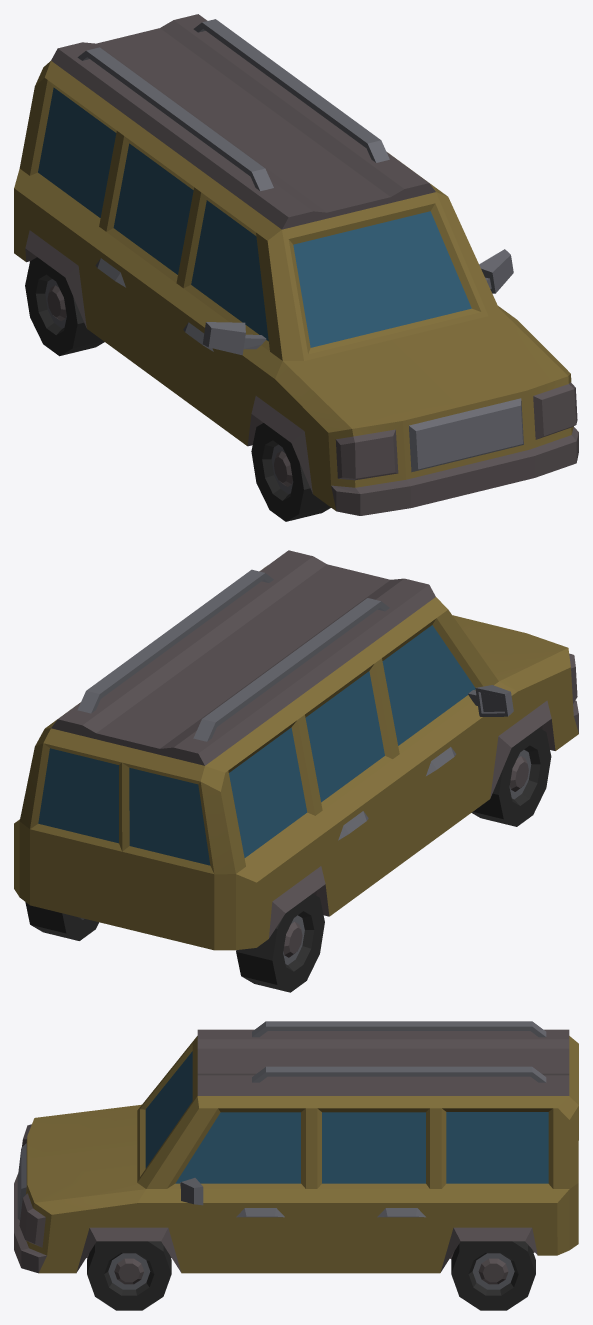
The model's file is LP_VehicleG.fbx.
The picture shows the model from 3 angles, top to bottom: view 1: azimuth 30°, elevation 25°; view 2: azimuth 150°, elevation 25°; view 3: azimuth 270°, elevation 25°; orthographic projection. The views are drawn at different scales.
Parts seen in each view (by area): view 1: VehicleG; view 2: VehicleG; view 3: VehicleG.
Part boxes in pixels (box(x1,y1,x2,y2)): VehicleG: box(14, 14, 578, 521); VehicleG: box(14, 550, 578, 992); VehicleG: box(14, 1021, 578, 1310).
Size of the model in its own units: 183 by 154 by 365.
